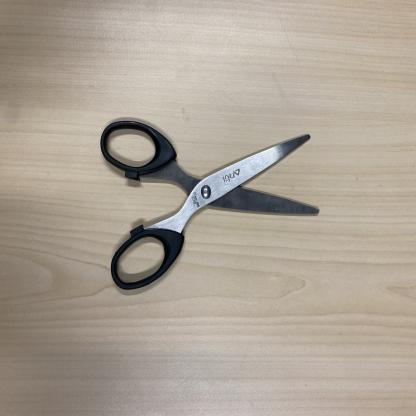scissors: (102, 115, 320, 295)
